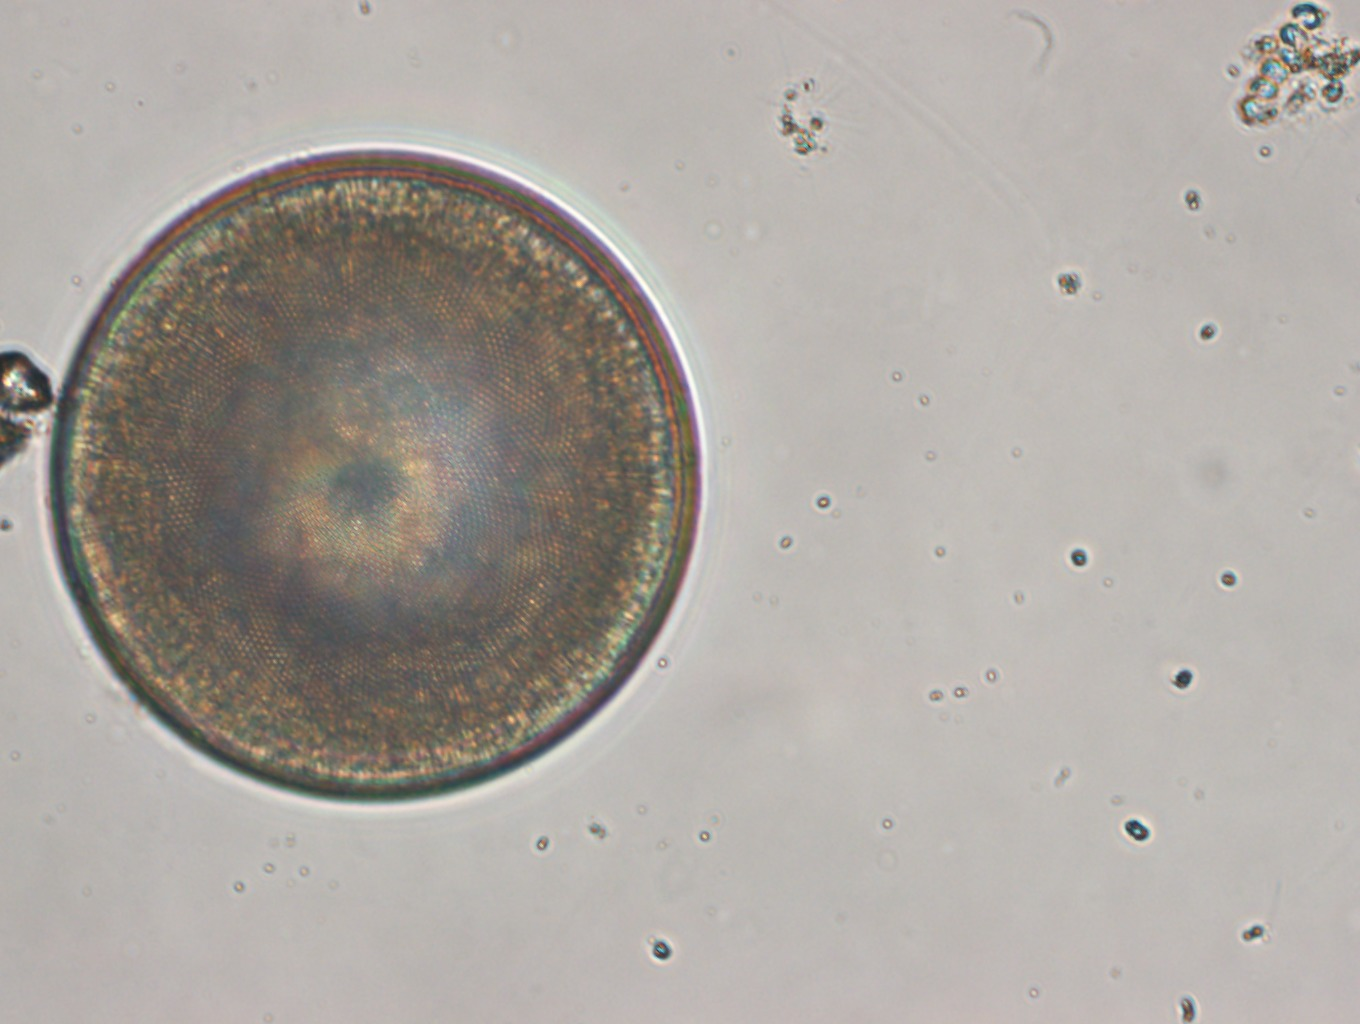coscinodiscus: (40, 141, 707, 805)
